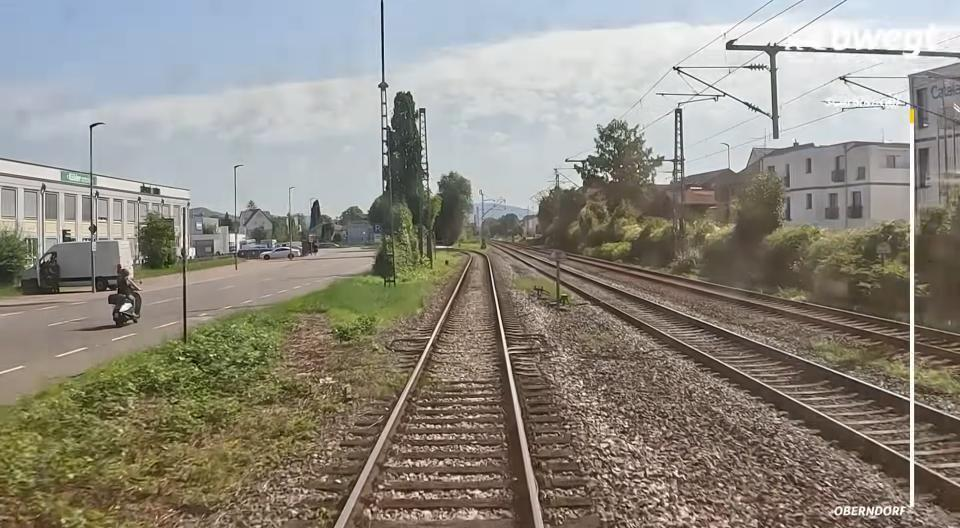Plant: (34, 379, 333, 528), (372, 264, 459, 321), (812, 338, 908, 385), (915, 365, 960, 403), (516, 276, 570, 303), (332, 315, 377, 341)
